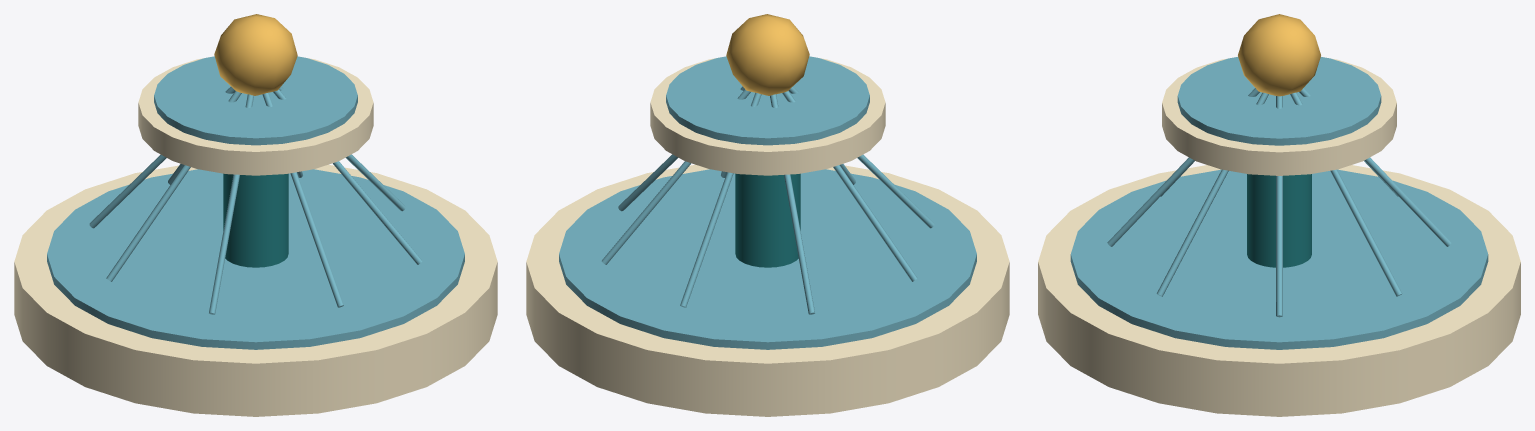
File: deco_fountain.glb
3 renders of one model, left to right at view 1: azimuth 30°, elevation 25°; view 2: azimuth 150°, elevation 25°; view 3: azimuth 270°, elevation 25°, orthographic.
Visible parts, largest first — view 1: deco_fountain; view 2: deco_fountain; view 3: deco_fountain.
Boxes of the visible parts, box(x1,y1,x2,y2) form: deco_fountain: box(14, 14, 497, 416); deco_fountain: box(526, 14, 1009, 416); deco_fountain: box(1038, 14, 1520, 416).
Size of the model in its own units: 3.7 by 2.51 by 3.7.
